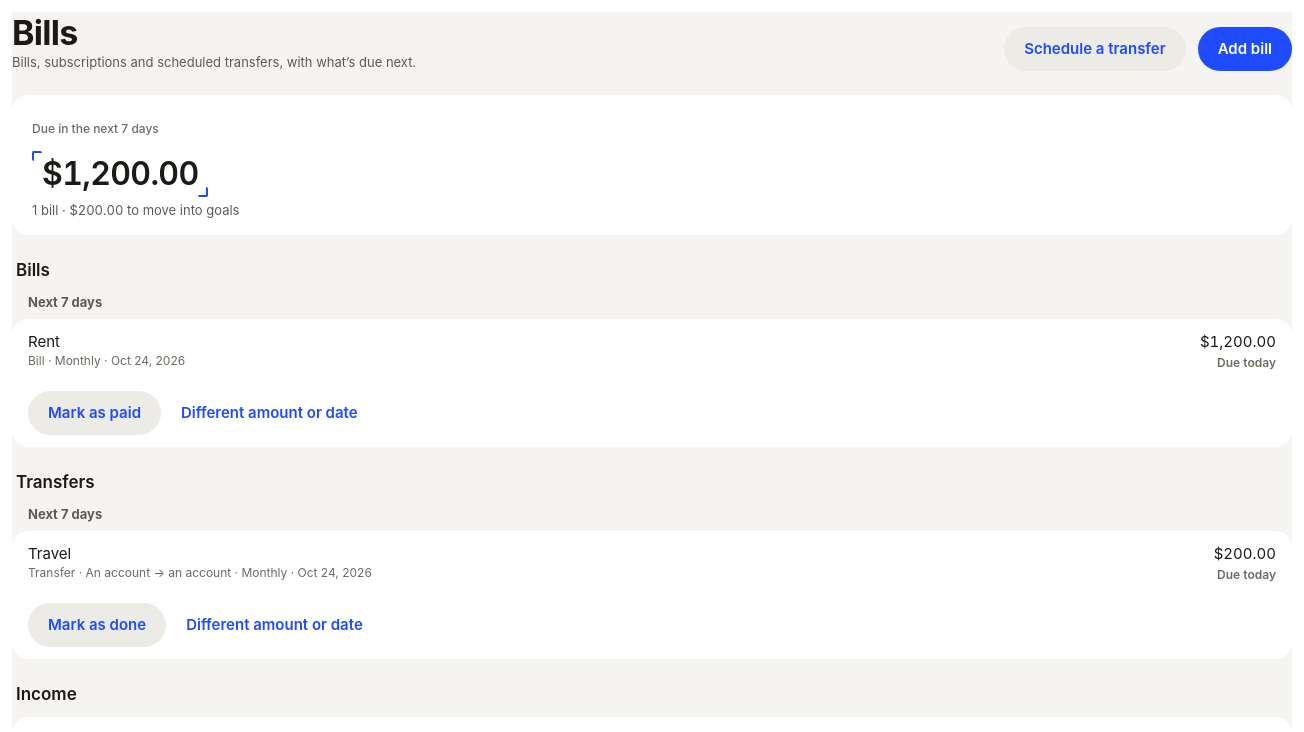
Test: BillsPage › marks a scheduled transfer done, and names it beside the bills rather than in their total
expect the text "Due in the next 7 days" reads "Due in the next 7 days $1,200.00 1 bill · $200.00 to move into goals": met, box [12, 95, 1292, 235]
expect the text "Due in the next 7 days" does not show "$1,400.00": met, box [12, 95, 1292, 235]
Click the button "Mark as done" at (97, 625), box [28, 603, 166, 647]
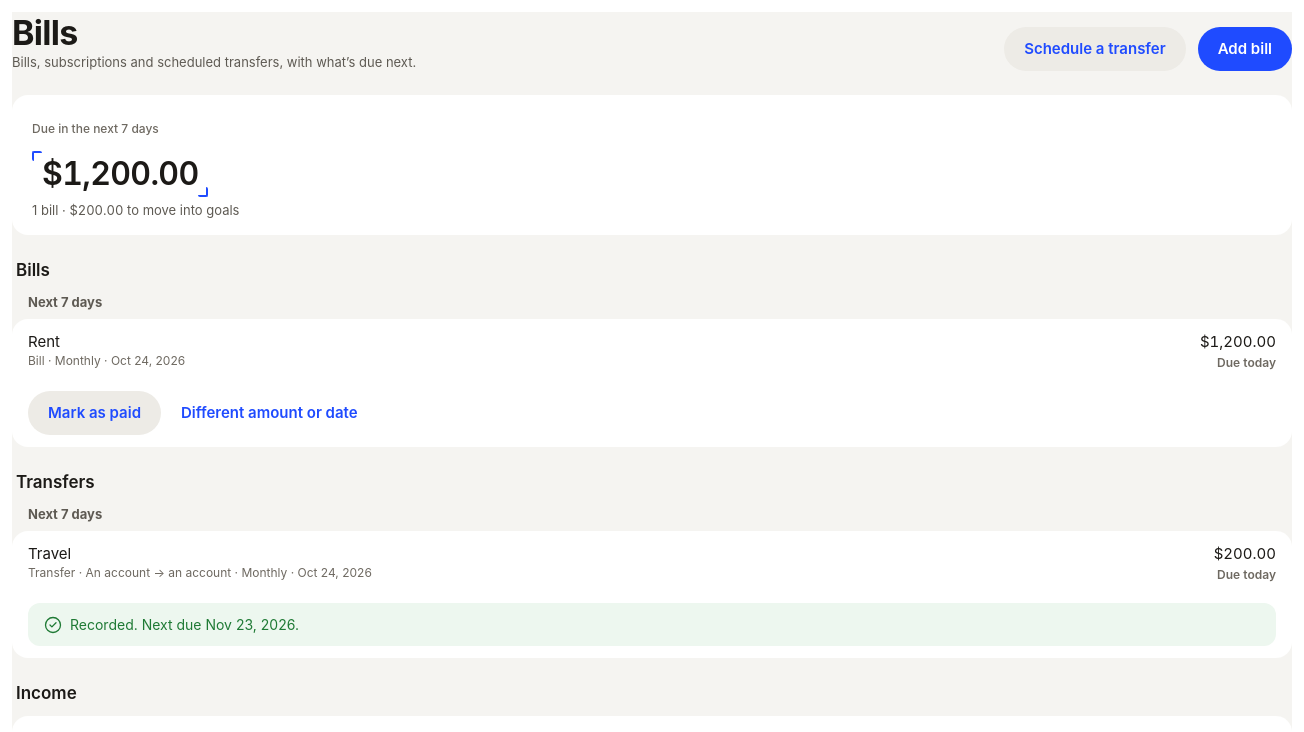
expect the text "Recorded. Next due Nov 23, 2026." is shown: met, box [70, 615, 299, 634]
